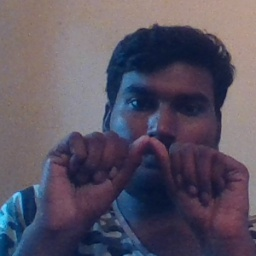A: (69, 123, 230, 226)
